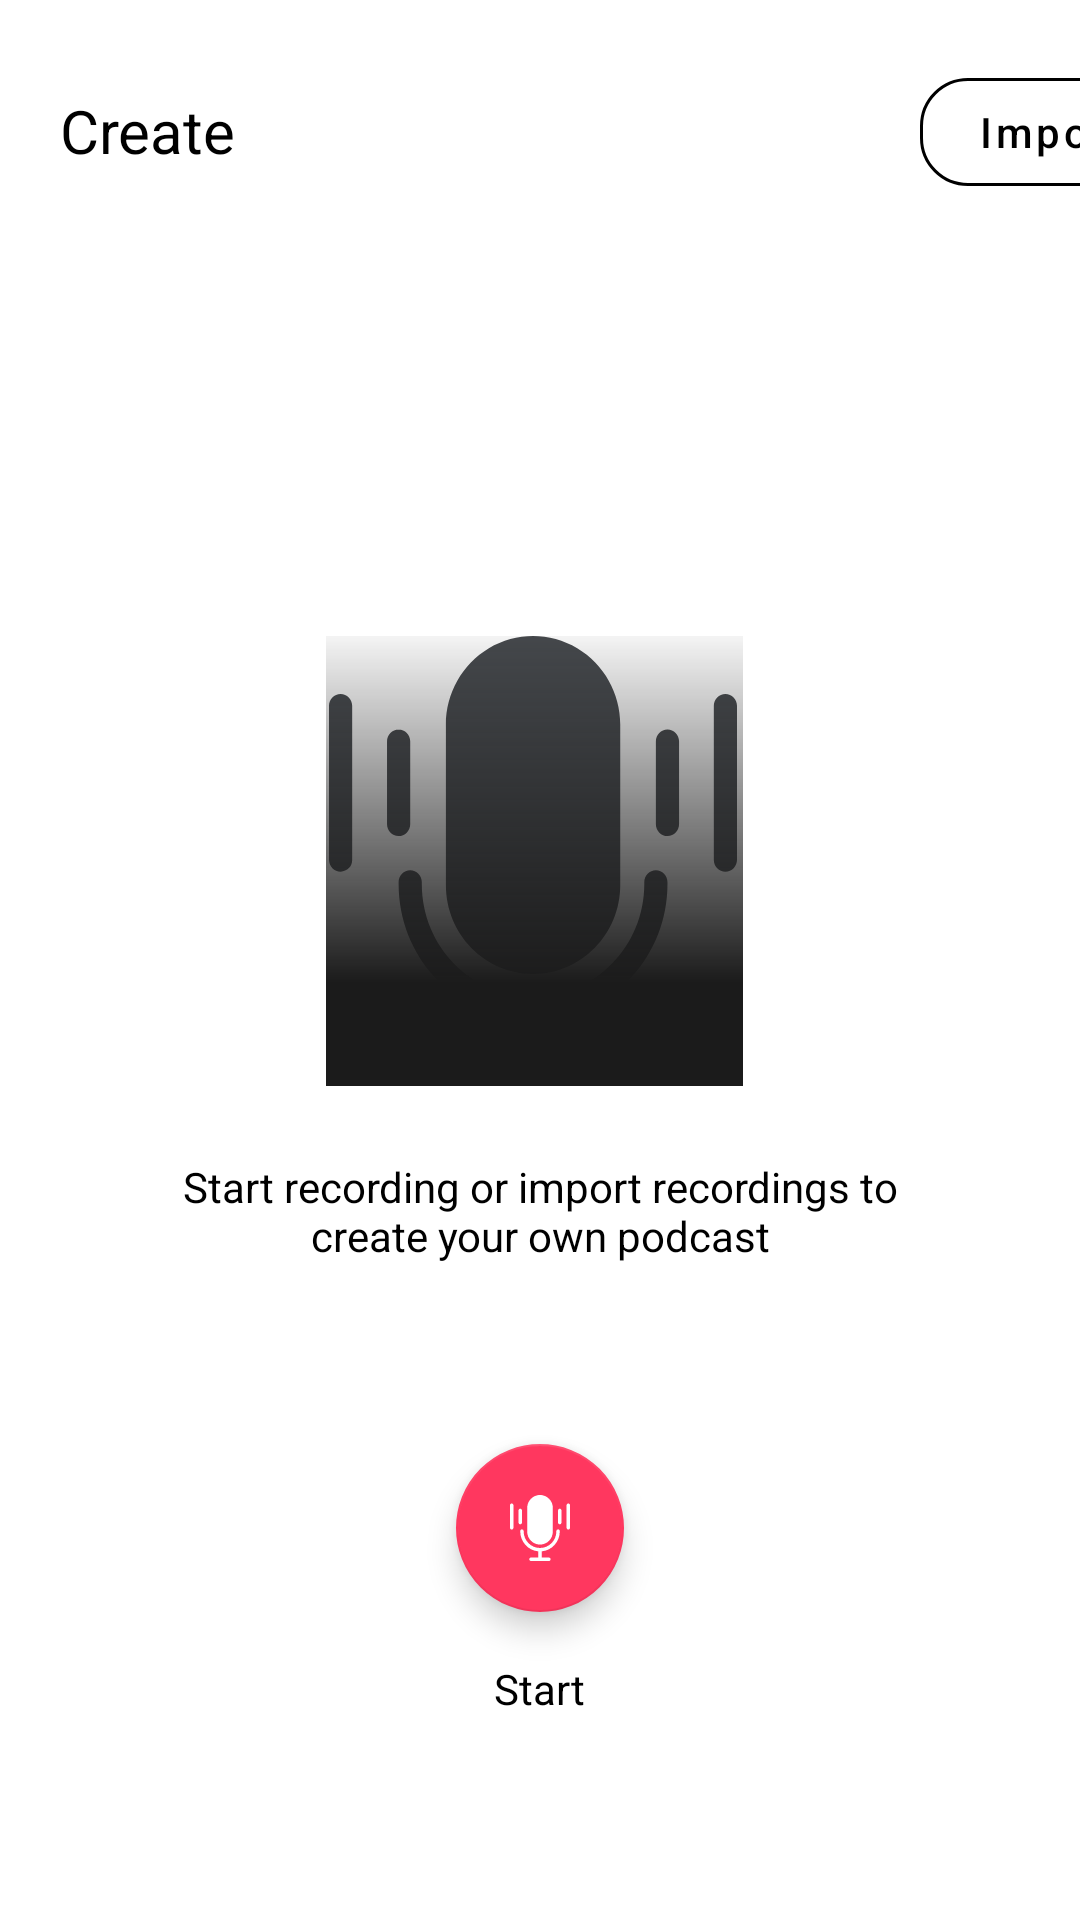

Where icons sit on this 1080w x 1920h app screen, as (left=x1, top=y1, right=x2, bottom=y2):
record: (left=456, top=1444, right=624, bottom=1612)
